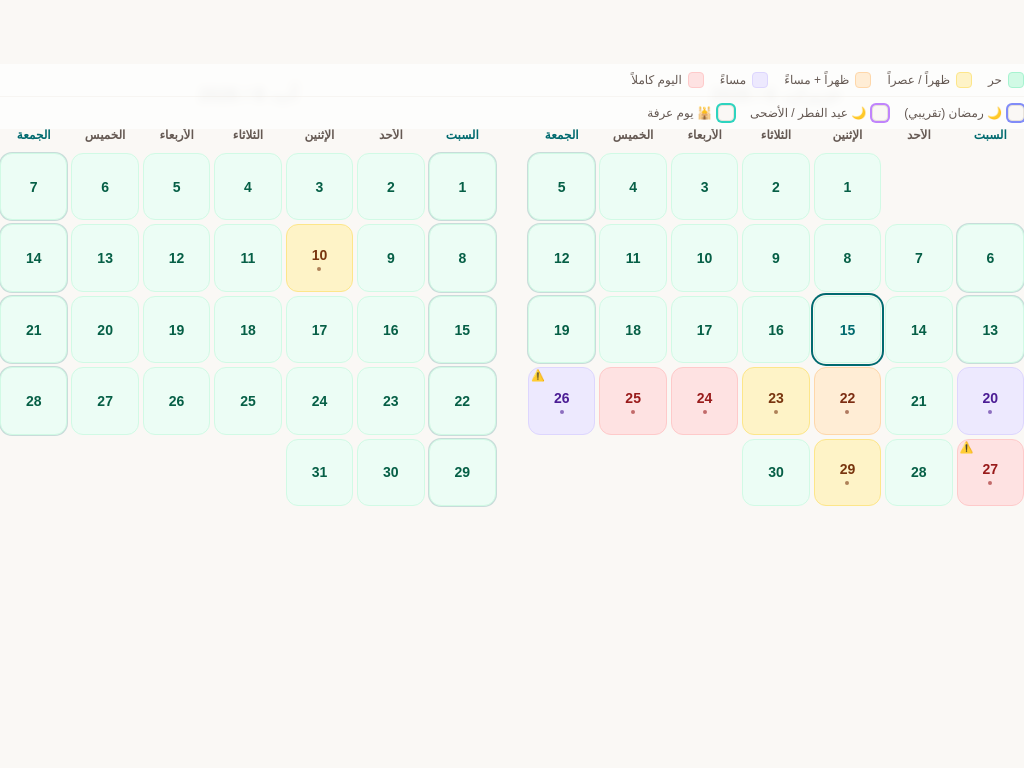
CalendarGrid › opens the day detail for a booked day and closes it
The image size is (1024, 768).
Click the button "20" below "حزيران، 6 / 2026" at (990, 401), box x1=957 y1=367 x2=1023 y2=435
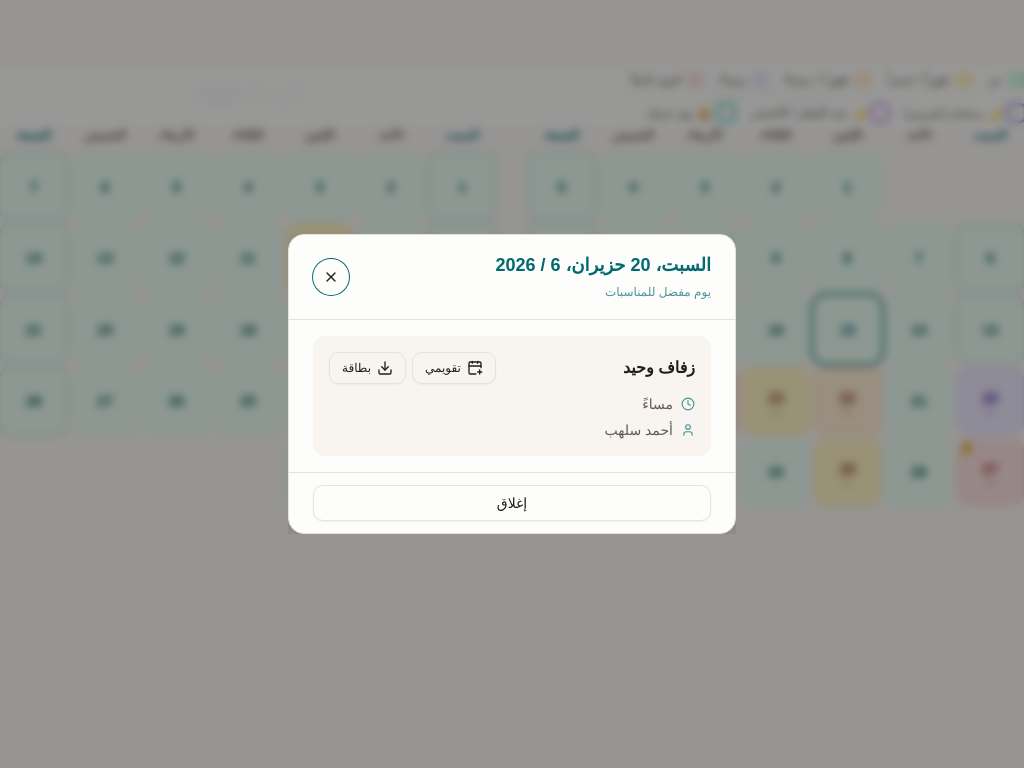
Check: the text "زفاف وحيد" is shown, box x1=623 y1=356 x2=695 y2=380
Click the button "إغلاق" at (512, 503), box x1=313 y1=485 x2=711 y2=521
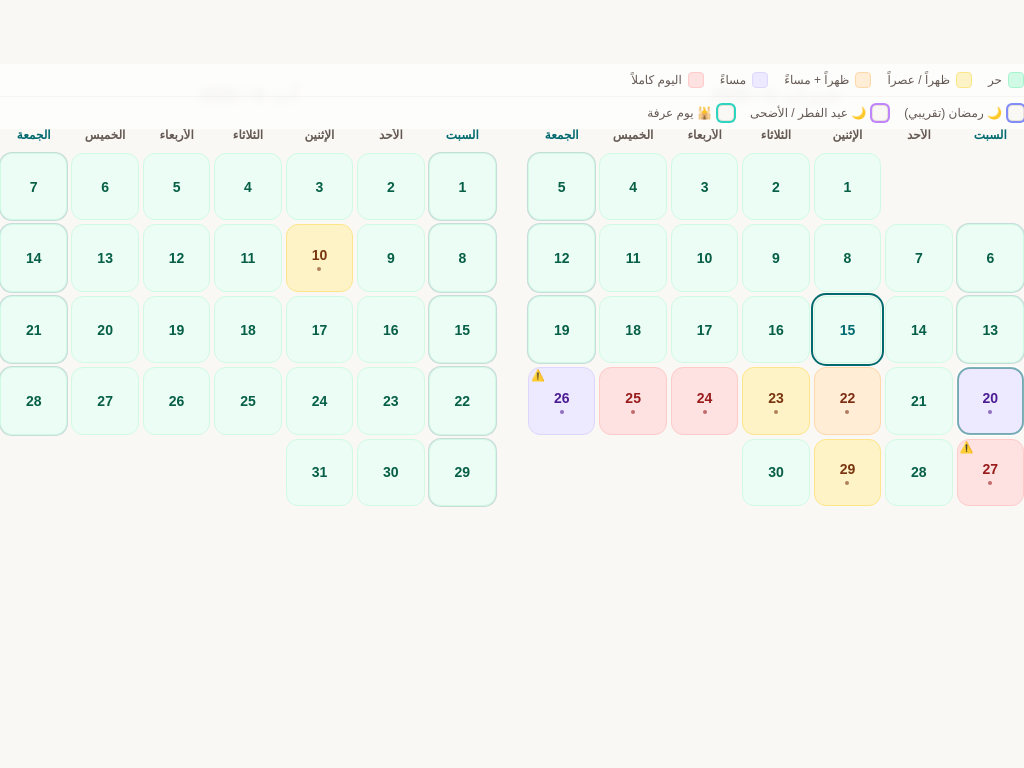
Check: the text "زفاف وحيد" is gone
